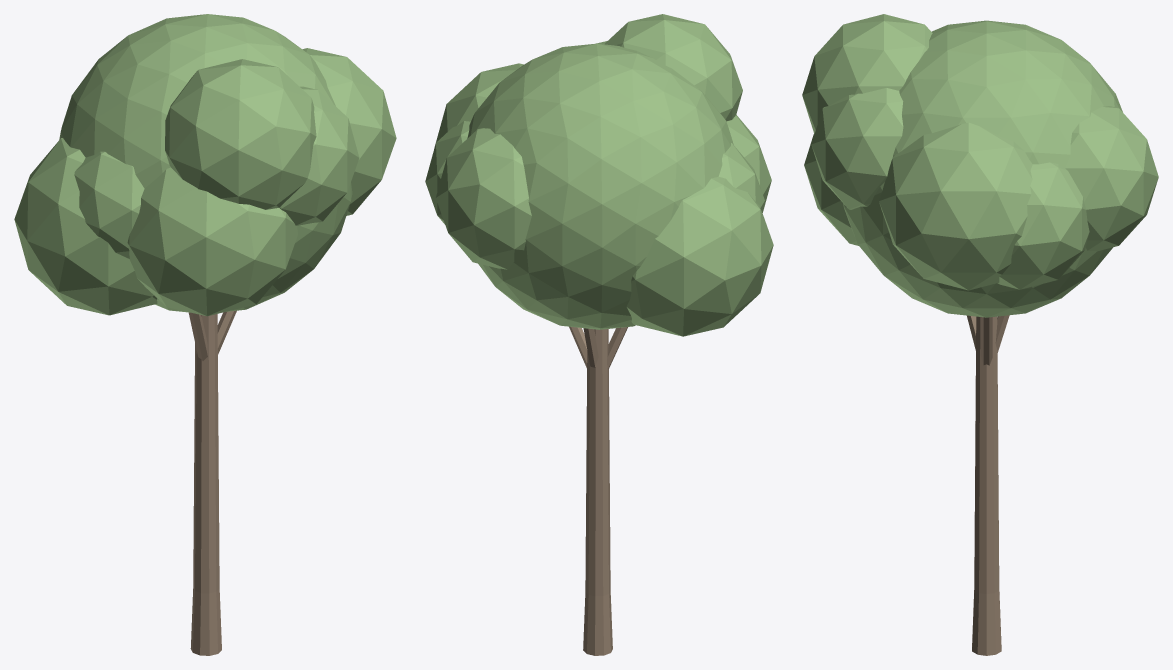
File: tree.glb
3 views of the same model, side by side, from view 1: azimuth 30°, elevation 25°; view 2: azimuth 150°, elevation 25°; view 3: azimuth 270°, elevation 25° (orthographic). The views are drawn at different scales.
Parts seen in each view (by area): view 1: tree_leaf, tree_bark; view 2: tree_leaf, tree_bark; view 3: tree_leaf, tree_bark.
Boxes of the visible parts, x1=… form: tree_leaf: x1=14, y1=14, x2=396, y2=316; tree_bark: x1=188, y1=310, x2=236, y2=655; tree_leaf: x1=425, y1=14, x2=773, y2=336; tree_bark: x1=569, y1=326, x2=627, y2=655; tree_leaf: x1=802, y1=14, x2=1158, y2=317; tree_bark: x1=967, y1=315, x2=1009, y2=655.
Size of the model in its own units: 3.29 by 5.72 by 2.98.
